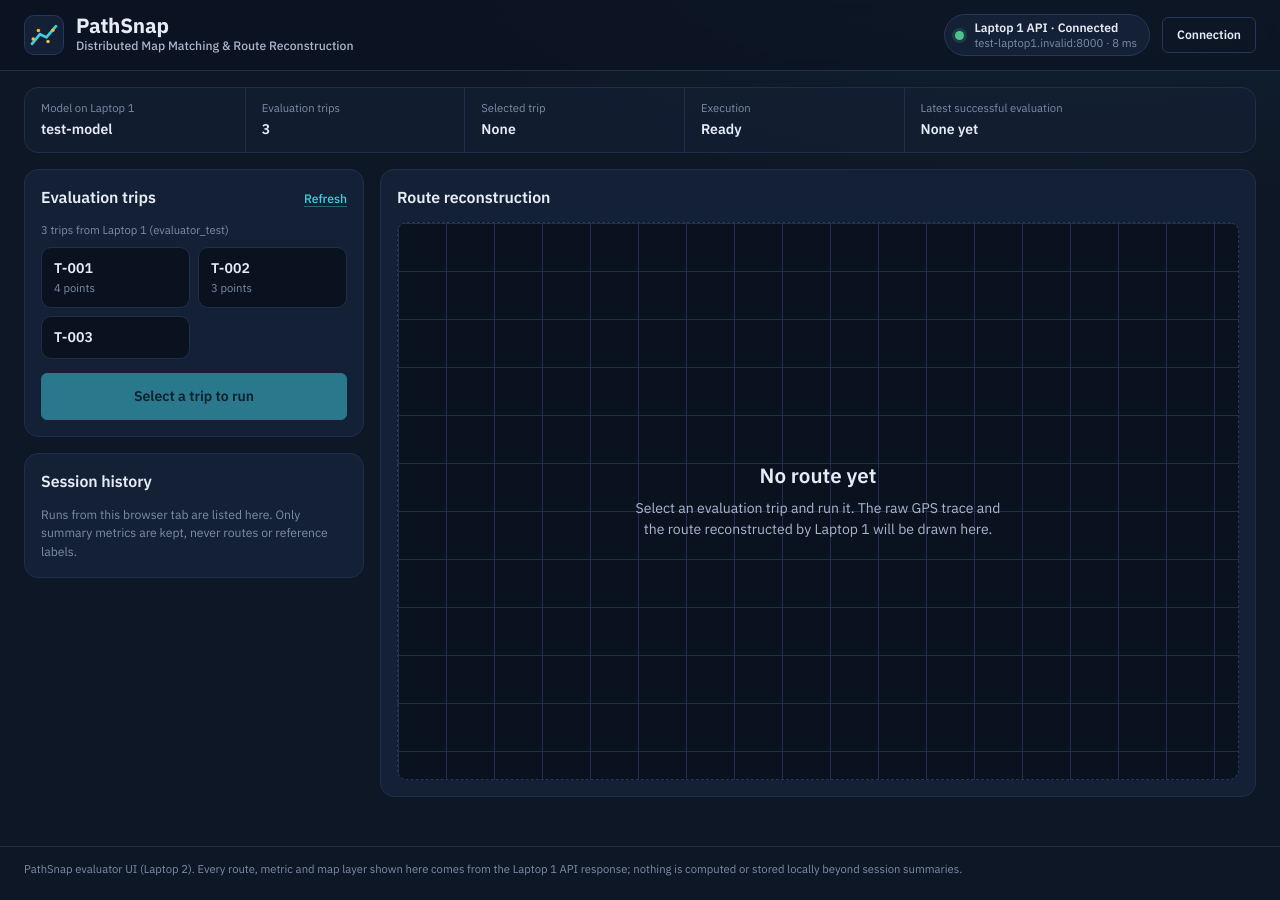
Test: evaluation flow › shows a backend failure and does not display results as a success
Click the radio button with test id "trip-T-001". click: (116, 277)
box: [41,247,190,308]
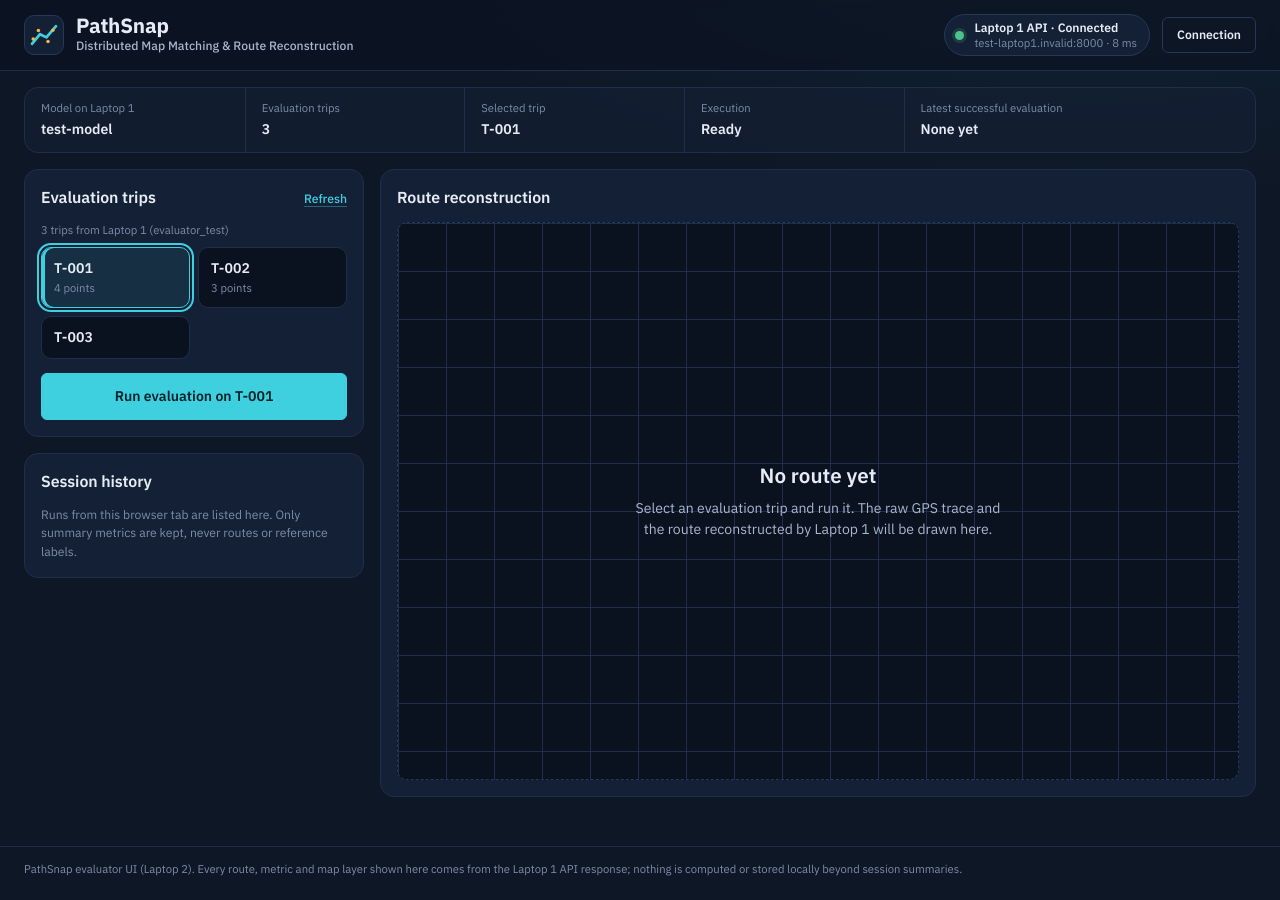
Click the button "Run evaluation on T-001". click: (194, 396)
box: [41,373,347,420]
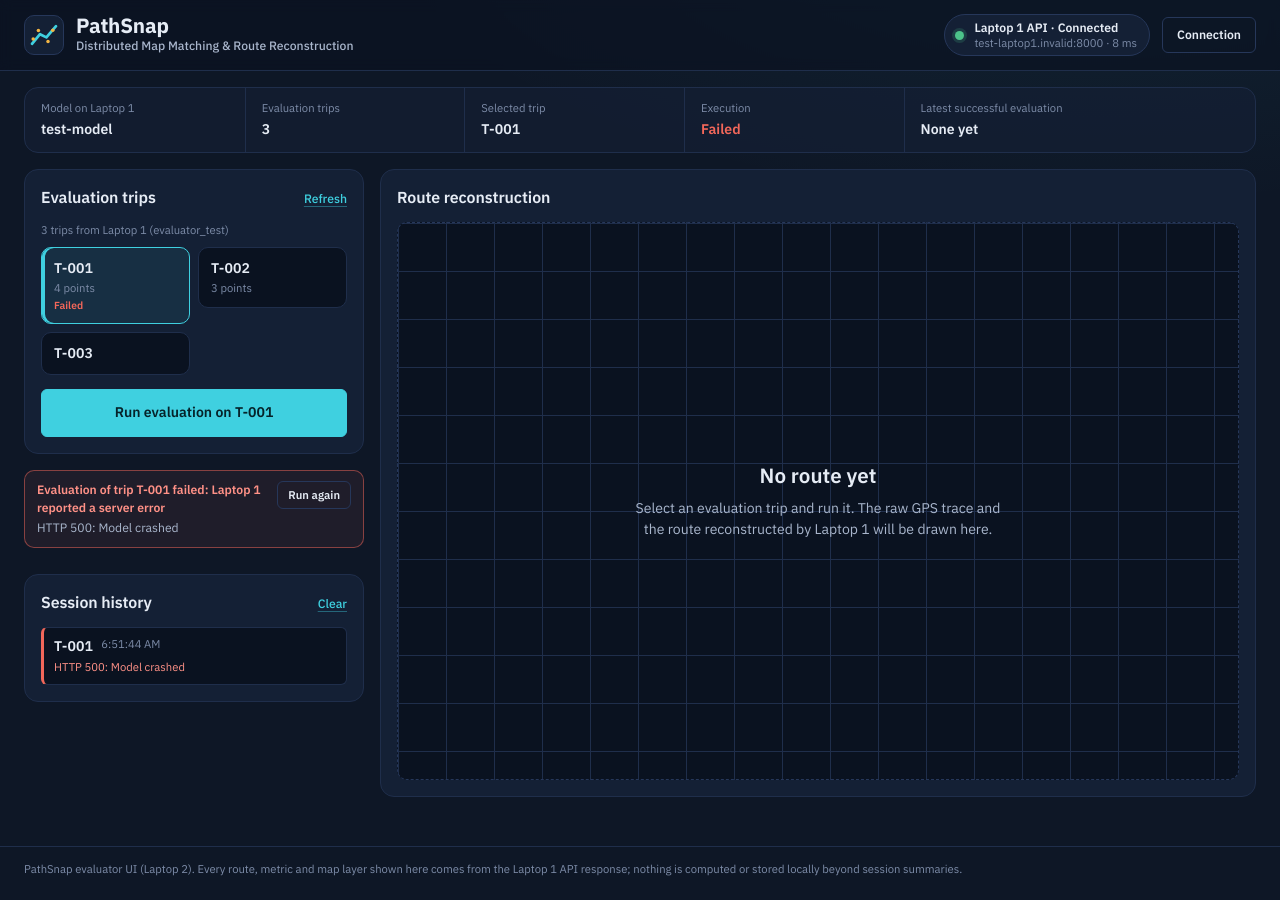
Check: the text "Evaluation of trip T-001 failed: Laptop 1 reported a server error" is shown, box [37,480,265,517]
Check: the 1st text "HTTP 500: Model crashed" is shown, box [37,520,179,535]
Check: the text "HTTP 500: Model crashed" below "Session history" is shown, box [54,659,185,674]
